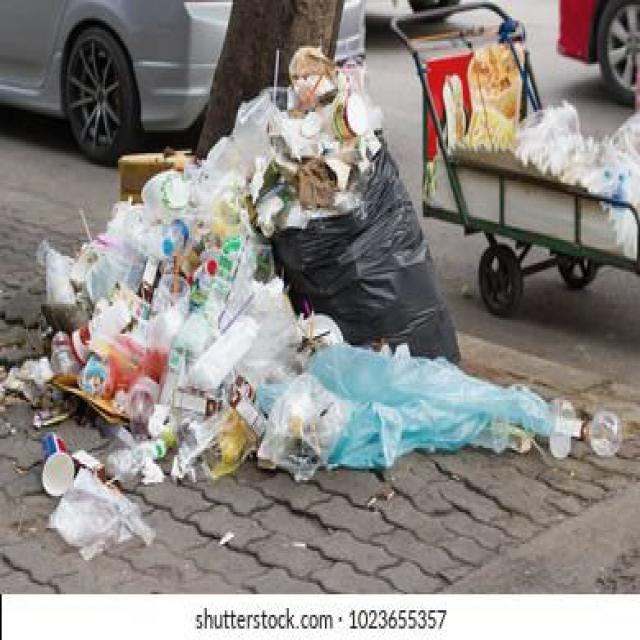garbage: (46, 252, 318, 530), (315, 329, 602, 492), (161, 121, 379, 277), (286, 53, 364, 137)
